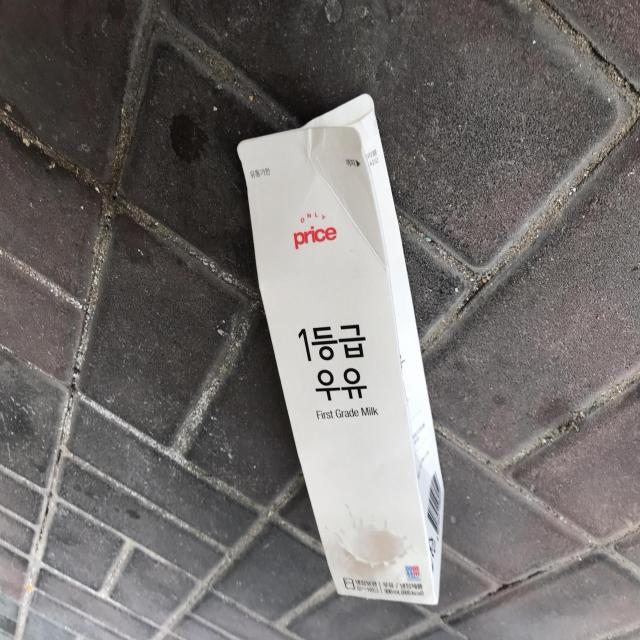paperpack: (237, 94, 444, 606)
